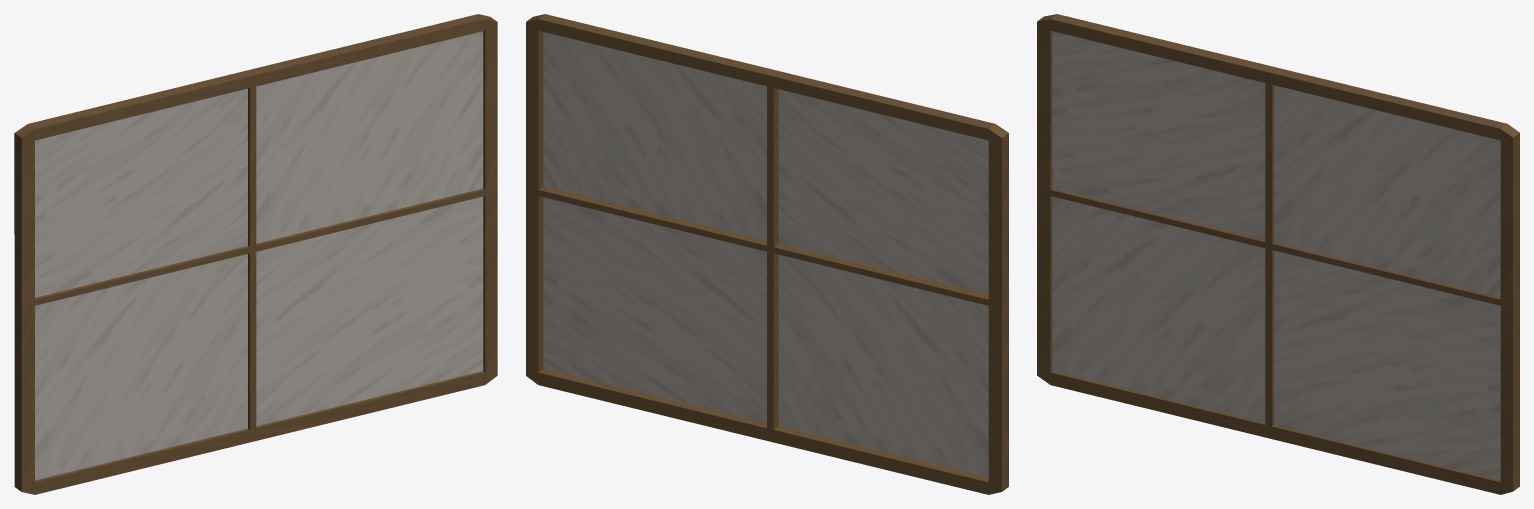
File: Ikkuna.fbx
The picture shows the model from 3 angles, left to right: view 1: azimuth 30°, elevation 25°; view 2: azimuth 150°, elevation 25°; view 3: azimuth 330°, elevation 25°; orthographic projection.
Visible parts, largest first — view 1: Ikkuna; view 2: Ikkuna; view 3: Ikkuna.
Boxes of the visible parts, bbox=[...] form: Ikkuna: bbox=[14, 14, 497, 494]; Ikkuna: bbox=[526, 14, 1008, 494]; Ikkuna: bbox=[1037, 14, 1519, 494].
Bounding box in the file's own units: 379 × 279 × 9.6.
